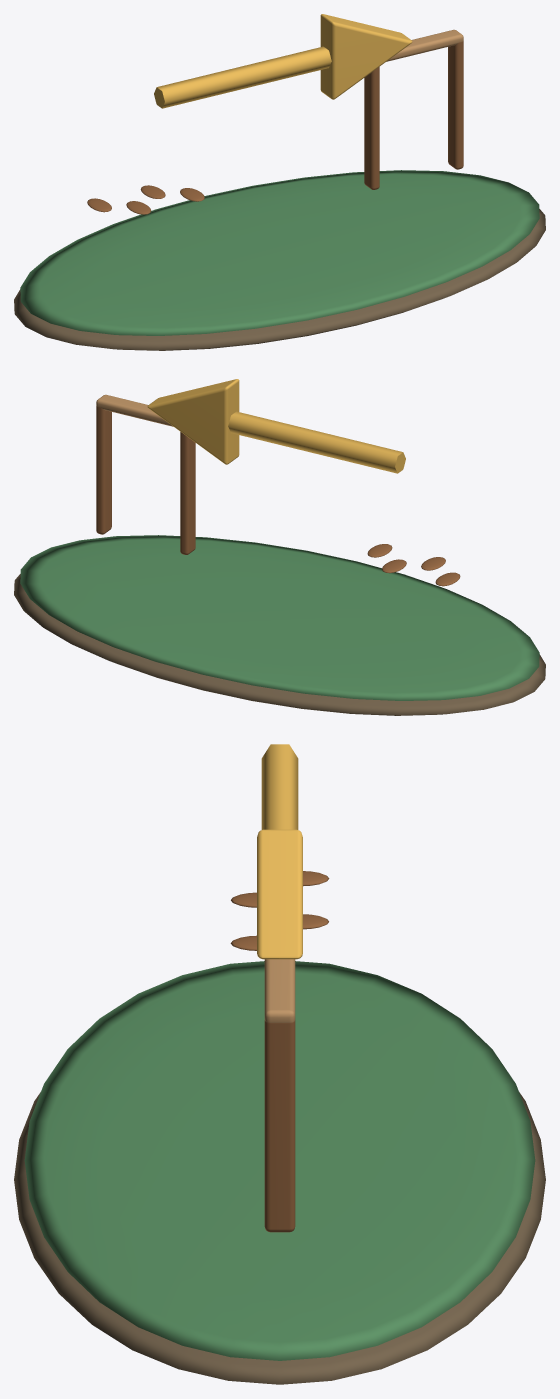
File: complete-second-toward-marker.glb
The picture shows the model from 3 angles, top to bottom: view 1: azimuth 30°, elevation 25°; view 2: azimuth 150°, elevation 25°; view 3: azimuth 270°, elevation 25°; orthographic projection. The views are drawn at different scales.
Visible parts, largest first — view 1: complete-second-toward-marker_surface_01, complete-second-toward-marker_surface_00, complete-second-toward-marker_surface_02, complete-second-toward-marker_surface_03, complete-second-toward-marker_surface_04; view 2: complete-second-toward-marker_surface_01, complete-second-toward-marker_surface_00, complete-second-toward-marker_surface_02, complete-second-toward-marker_surface_03, complete-second-toward-marker_surface_04; view 3: complete-second-toward-marker_surface_01, complete-second-toward-marker_surface_00, complete-second-toward-marker_surface_02, complete-second-toward-marker_surface_03, complete-second-toward-marker_surface_04.
Boxes of the visible parts, box(x1,y1,x2,y2) form: complete-second-toward-marker_surface_01: box(20, 170, 539, 335); complete-second-toward-marker_surface_00: box(14, 209, 545, 350); complete-second-toward-marker_surface_02: box(154, 14, 412, 108); complete-second-toward-marker_surface_03: box(87, 41, 463, 214); complete-second-toward-marker_surface_04: box(386, 29, 463, 61); complete-second-toward-marker_surface_01: box(20, 535, 539, 700); complete-second-toward-marker_surface_00: box(14, 574, 545, 715); complete-second-toward-marker_surface_02: box(147, 379, 405, 473); complete-second-toward-marker_surface_03: box(96, 406, 460, 586); complete-second-toward-marker_surface_04: box(96, 394, 173, 426); complete-second-toward-marker_surface_01: box(24, 961, 535, 1360); complete-second-toward-marker_surface_00: box(14, 1092, 545, 1384); complete-second-toward-marker_surface_02: box(257, 744, 302, 959); complete-second-toward-marker_surface_03: box(230, 871, 329, 1232); complete-second-toward-marker_surface_04: box(264, 959, 295, 1022).
Bounding box in the file's own units: 4.56 × 2.14 × 2.5.
